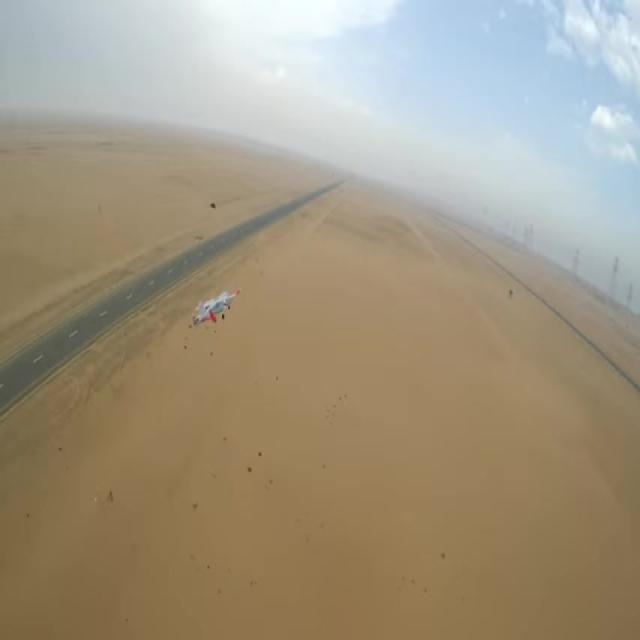iha: (194, 288, 241, 324)
